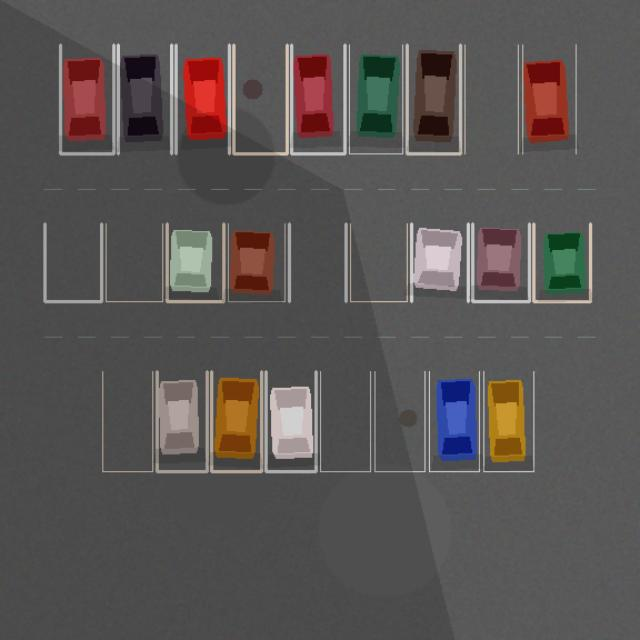space-empty: (233, 44, 287, 153), (464, 44, 518, 153), (102, 371, 152, 471), (320, 371, 370, 471), (374, 371, 424, 471), (44, 223, 101, 301), (289, 223, 346, 301), (350, 223, 407, 301), (106, 223, 162, 301)
space-occupied: (522, 44, 576, 153), (60, 44, 113, 153), (118, 44, 171, 153), (176, 44, 229, 153), (291, 44, 344, 153), (349, 44, 402, 153), (407, 44, 460, 153), (157, 371, 207, 471), (211, 371, 261, 471), (266, 371, 316, 471), (429, 371, 479, 471), (483, 371, 533, 471), (411, 223, 468, 301), (472, 223, 529, 301), (533, 223, 590, 301), (167, 223, 223, 301), (228, 223, 284, 301)
